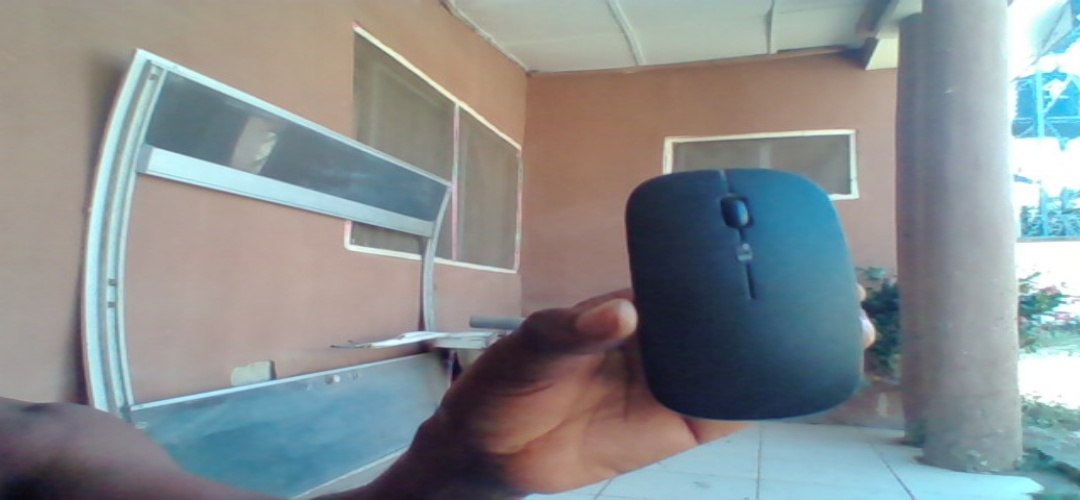wireless_mouse: (618, 168, 866, 422)
